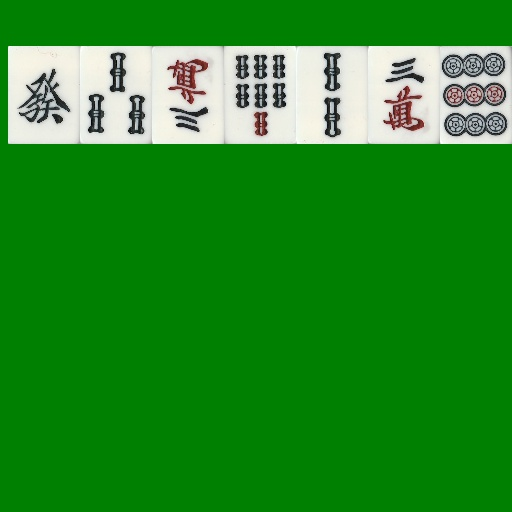2s: (296, 46, 368, 144)
3m: (152, 46, 224, 144), (368, 46, 440, 144)
3s: (80, 46, 152, 144)
7s: (224, 46, 296, 144)
9p: (440, 46, 512, 144)
hatsu: (8, 46, 80, 144)
